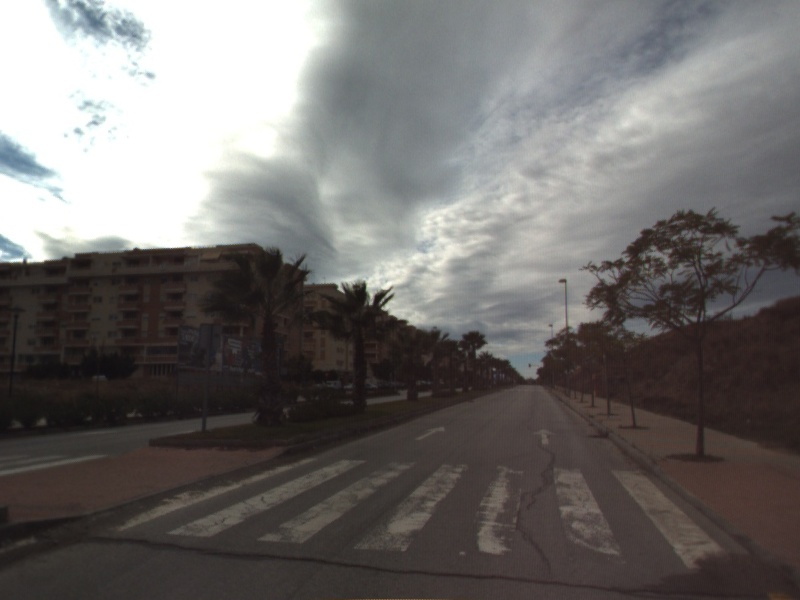STRAIGHT: (413, 424, 447, 442), (531, 426, 558, 447)
